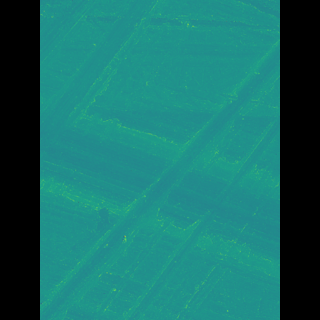Loch: (69, 29, 250, 320), (68, 0, 168, 165)
